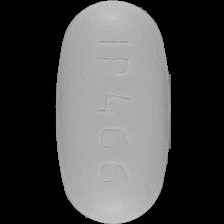63874-323: (0, 0, 224, 224)
